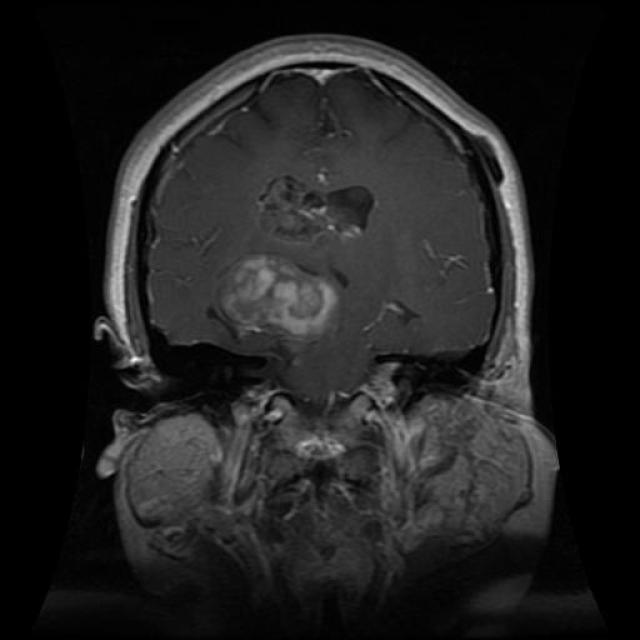glioma: (208, 244, 352, 352), (254, 164, 376, 248)
